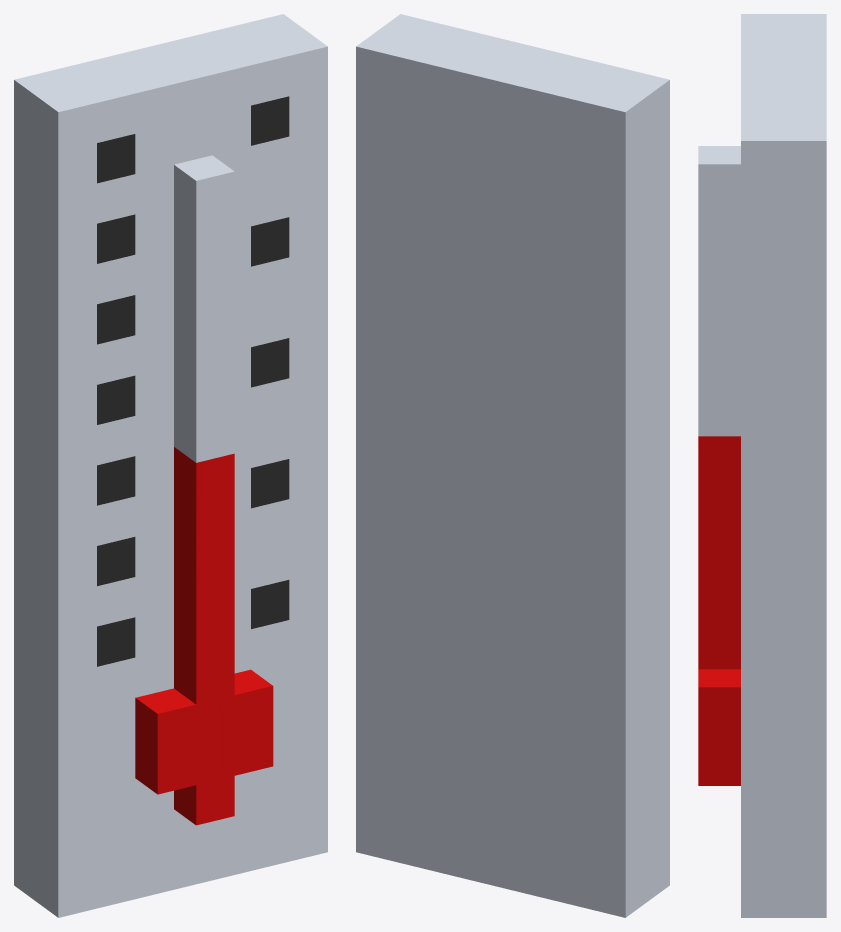
File: thermometer.obj
3 renders of one model, left to right at view 1: azimuth 30°, elevation 25°; view 2: azimuth 150°, elevation 25°; view 3: azimuth 270°, elevation 25°, orthographic. The views are drawn at different scales.
Size of the model in its own units: 0.7 by 2 by 0.3.
1 material, 1 textured.
